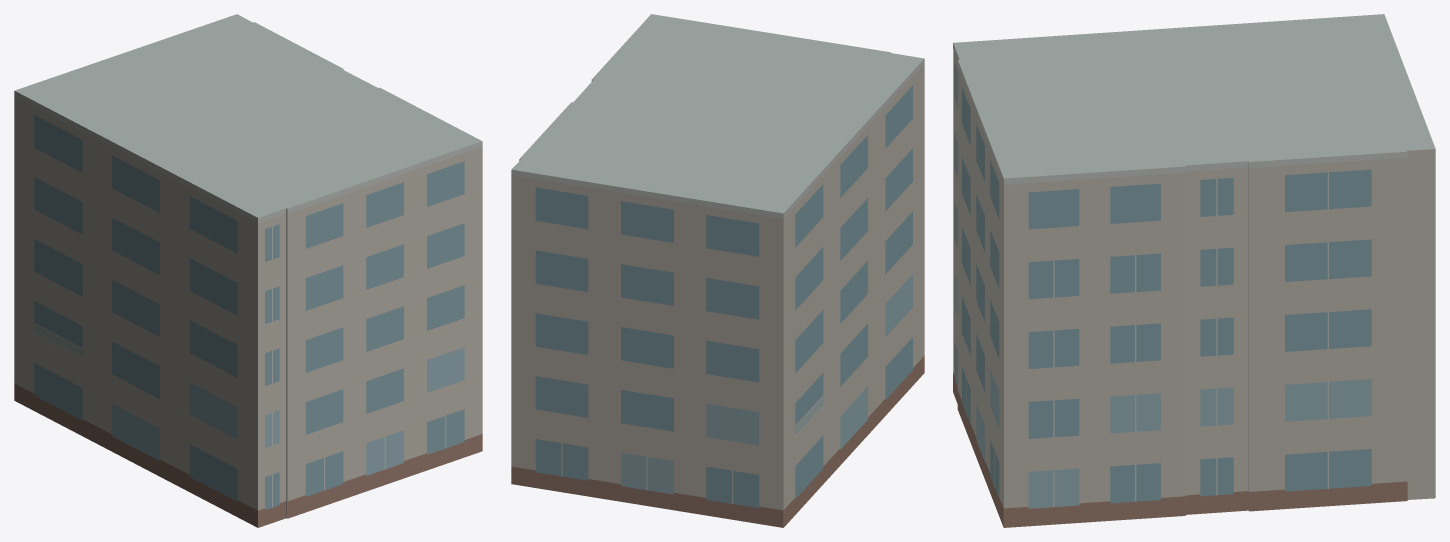
The model's file is survey-upis-32727547.glb.
3 views of the same model, side by side, from view 1: azimuth 30°, elevation 25°; view 2: azimuth 150°, elevation 25°; view 3: azimuth 270°, elevation 25° (orthographic). The views are drawn at different scales.
Parts seen in each view (by area): view 1: survey-upis-32727547.tmp; view 2: survey-upis-32727547.tmp; view 3: survey-upis-32727547.tmp.
Boxes of the visible parts, bbox=[...] form: survey-upis-32727547.tmp: bbox=[14, 14, 482, 527]; survey-upis-32727547.tmp: bbox=[511, 14, 924, 527]; survey-upis-32727547.tmp: bbox=[953, 14, 1435, 527].
Size of the model in its own units: 14.26 by 14.1 by 17.66.
